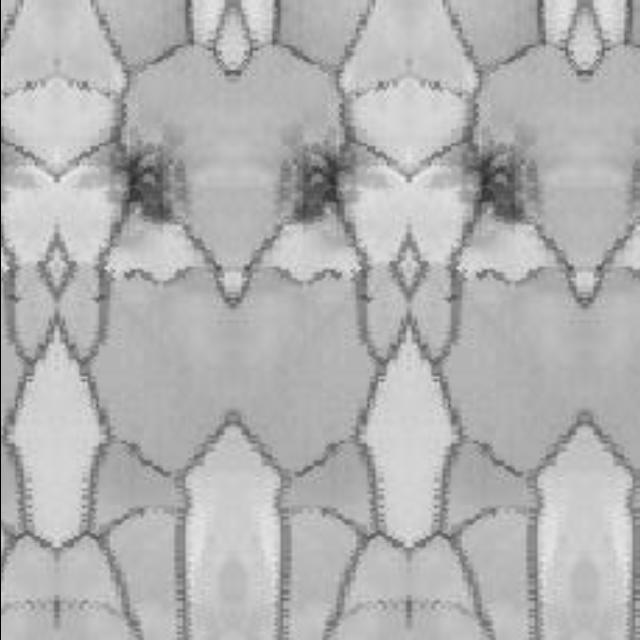good_void: (268, 127, 385, 229), (77, 127, 194, 229), (431, 127, 547, 229)
